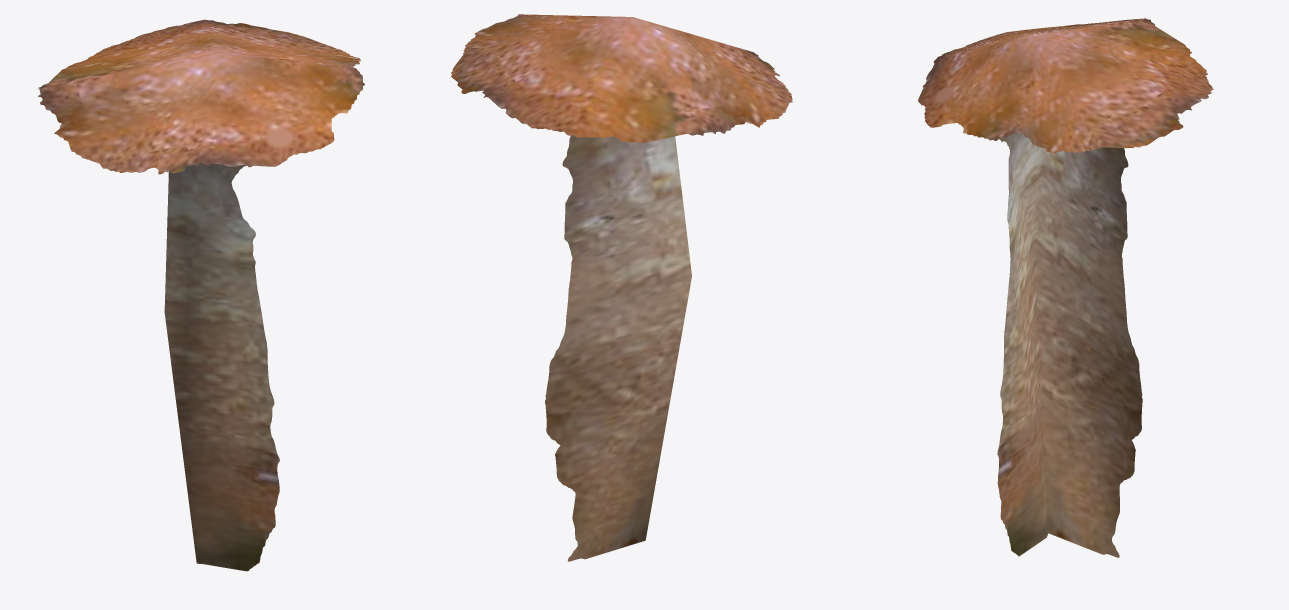
File: Mushroom_02_b.fbx
3 renders of one model, left to right at view 1: azimuth 30°, elevation 25°; view 2: azimuth 150°, elevation 25°; view 3: azimuth 270°, elevation 25°, orthographic.
Parts seen in each view (by area): view 1: mushroom_02_b; view 2: mushroom_02_b; view 3: mushroom_02_b.
Boxes of the visible parts, left/top/right/bottom form: mushroom_02_b: left=38, top=19, right=364, bottom=571; mushroom_02_b: left=451, top=14, right=792, bottom=561; mushroom_02_b: left=918, top=18, right=1213, bottom=557.
Size of the model in its own units: 0.1919 by 0.2664 by 0.1785.
